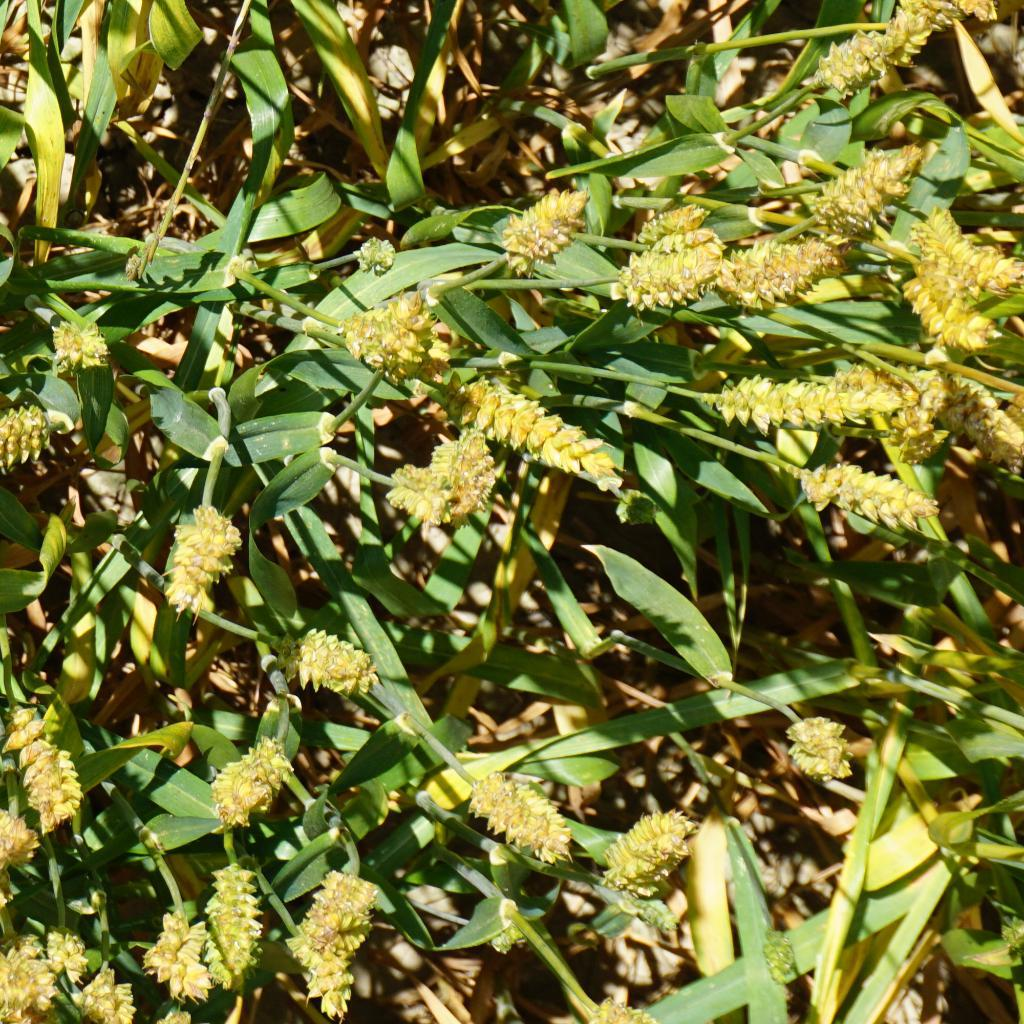0-0: (459, 375, 620, 479), (693, 365, 890, 435), (295, 851, 375, 1001), (921, 359, 1024, 467), (472, 758, 580, 859), (880, 263, 999, 354), (806, 457, 932, 536), (160, 490, 236, 611), (495, 187, 583, 281), (207, 732, 288, 827), (21, 728, 92, 836), (905, 203, 994, 287), (815, 12, 896, 100), (618, 239, 718, 308), (612, 807, 698, 887), (292, 623, 376, 698), (726, 241, 841, 292), (416, 429, 495, 500), (0, 932, 65, 1018), (780, 709, 857, 779), (335, 314, 426, 371), (817, 153, 887, 226), (890, 0, 1002, 45), (213, 863, 259, 968), (149, 911, 206, 991), (883, 389, 944, 463), (388, 459, 456, 524), (379, 281, 444, 344), (0, 382, 49, 462), (85, 964, 143, 1024), (45, 323, 116, 371), (636, 201, 718, 240), (35, 923, 85, 978), (355, 230, 408, 281), (764, 921, 800, 984), (0, 799, 28, 873), (625, 886, 678, 925)
